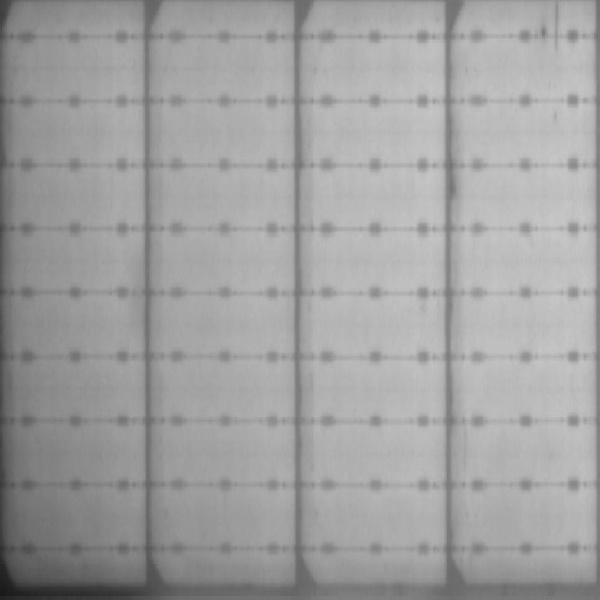scratch: (549, 4, 564, 60)
